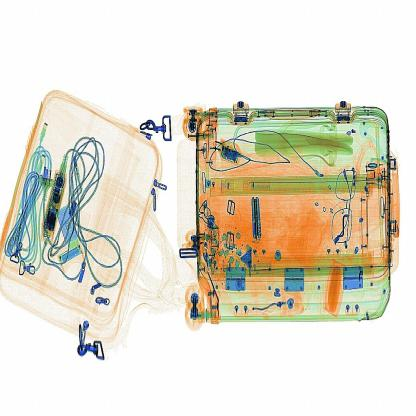scissors: (240, 188, 267, 252)
